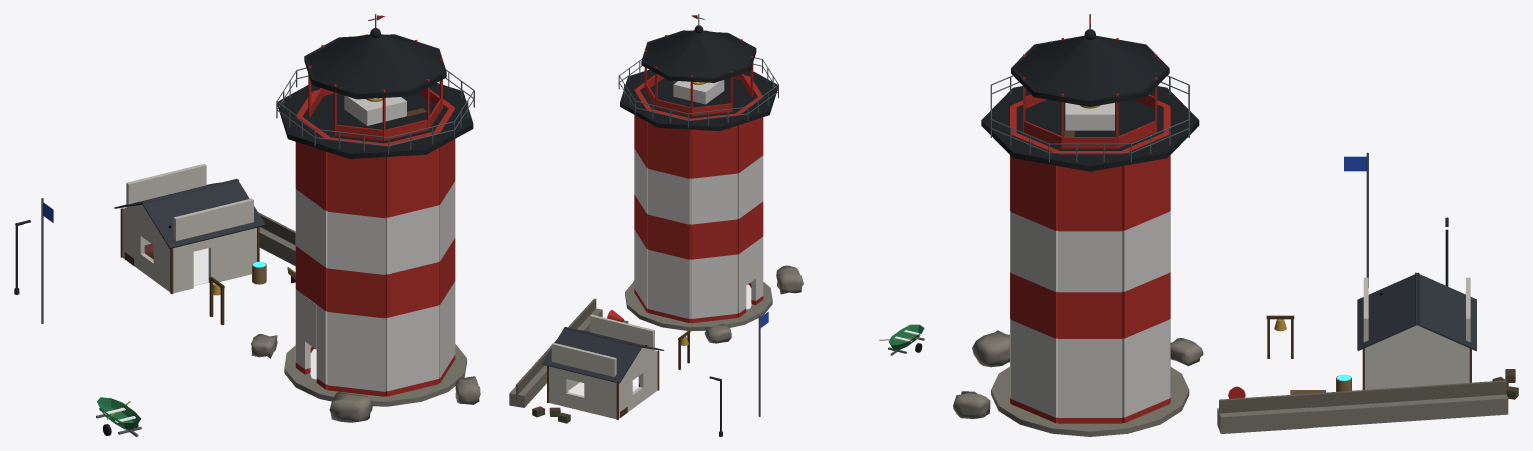
File: tf-light-p5.glb
3 renders of one model, left to right at view 1: azimuth 30°, elevation 25°; view 2: azimuth 150°, elevation 25°; view 3: azimuth 270°, elevation 25°, orthographic. The views are drawn at different scales.
Parts seen in each view (by area): view 1: tf-light-p5; view 2: tf-light-p5; view 3: tf-light-p5.
Part boxes in pixels (box(x1,y1,x2,y2)): tf-light-p5: box(14, 14, 480, 436); tf-light-p5: box(509, 14, 924, 436); tf-light-p5: box(953, 14, 1518, 436).
Size of the model in its own units: 22.54 by 21.2 by 28.55.
